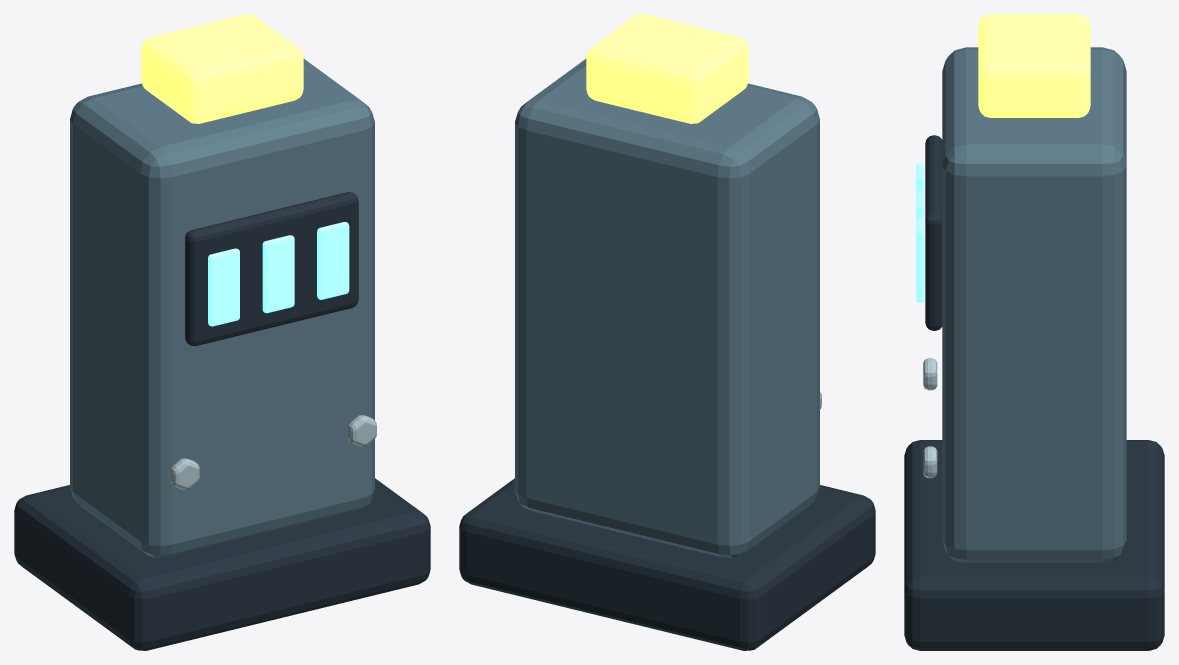
The model's file is SM_LivesTerminal.fbx.
The picture shows the model from 3 angles, left to right: view 1: azimuth 30°, elevation 25°; view 2: azimuth 150°, elevation 25°; view 3: azimuth 270°, elevation 25°; orthographic projection.
Parts seen in each view (by area): view 1: SM_LivesTerminal; view 2: SM_LivesTerminal; view 3: SM_LivesTerminal.
Part boxes in pixels (box(x1,y1,x2,y2)): SM_LivesTerminal: box(14, 14, 430, 650); SM_LivesTerminal: box(459, 14, 875, 650); SM_LivesTerminal: box(904, 14, 1164, 650).
Bounding box in the file's own units: 88 × 65 × 149.
